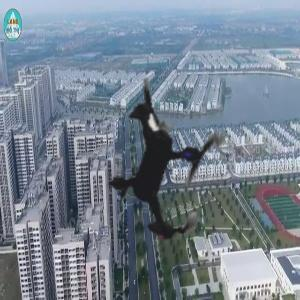drone: (45, 46, 287, 288)
